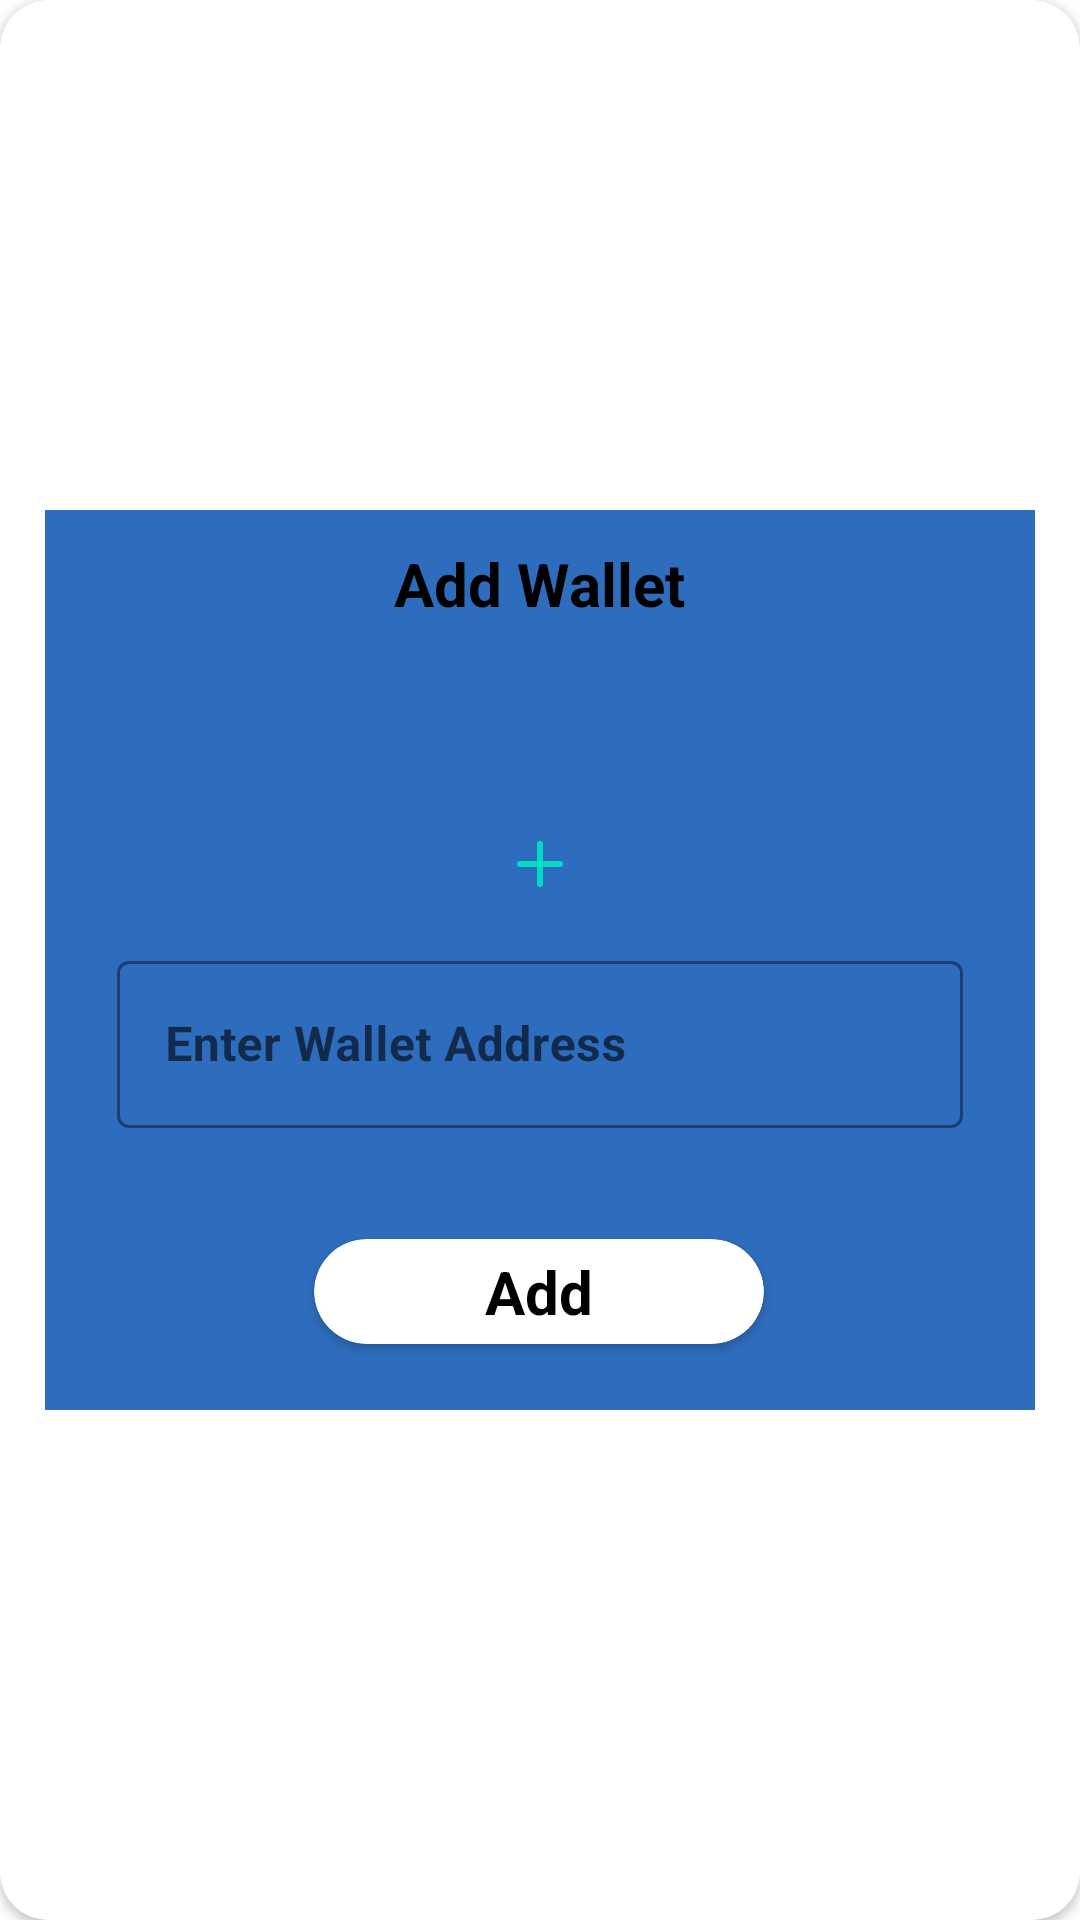

Screen size 1080px x 1920px. Icon name, then its center in pixels as (x=x, y=y):
add: (x=540, y=864)
